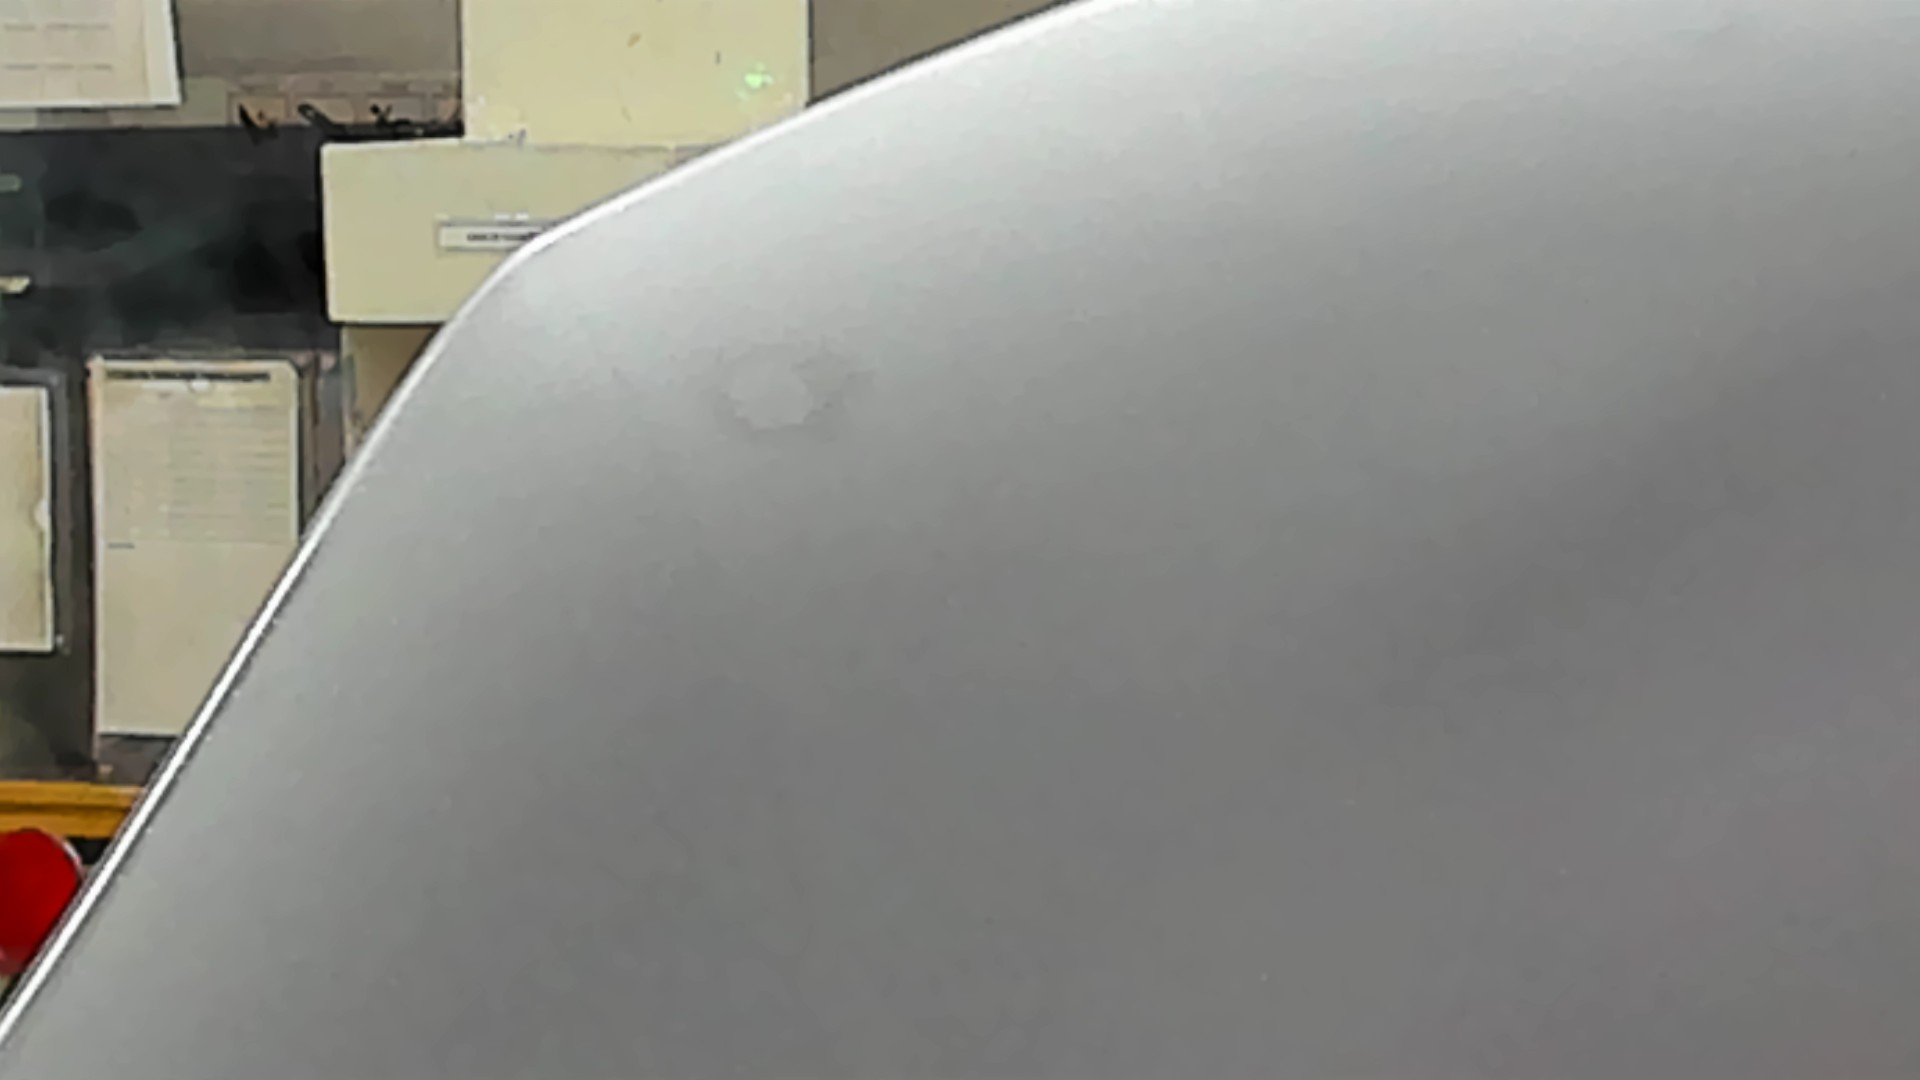capo: (750, 179, 1920, 1080)
